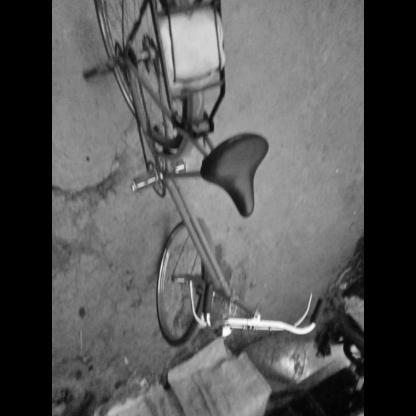Bicycle: (74, 0, 332, 376)
